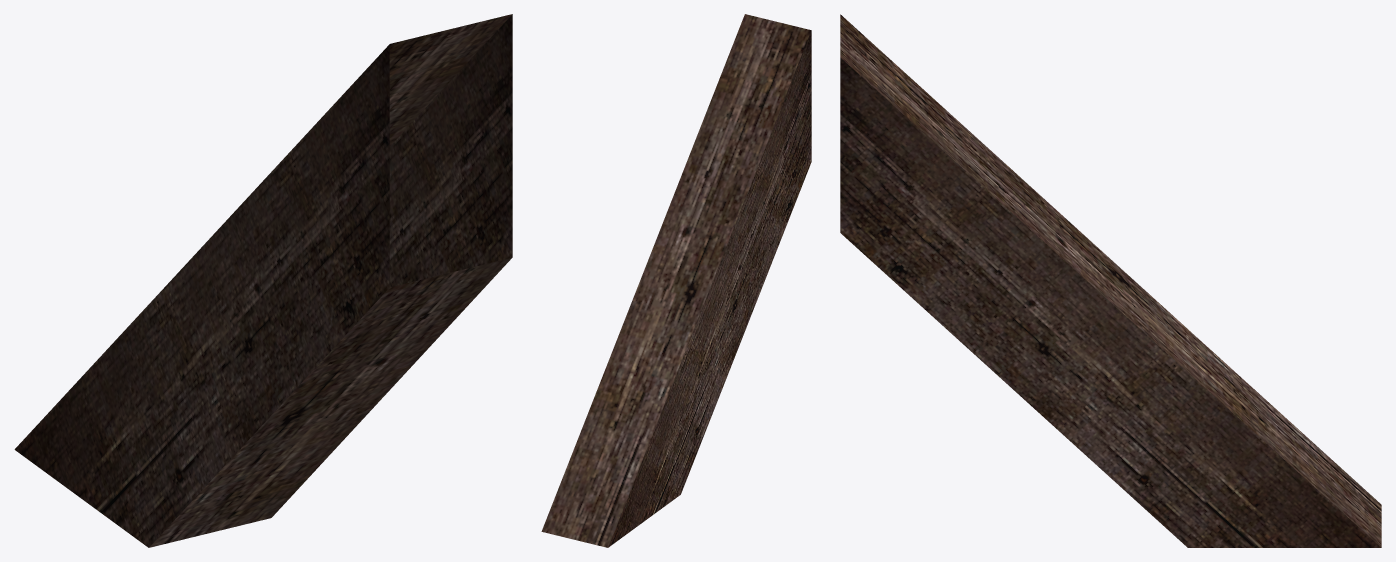
The model's file is 45_degree_brace.fbx.
3 renders of one model, left to right at view 1: azimuth 30°, elevation 25°; view 2: azimuth 150°, elevation 25°; view 3: azimuth 270°, elevation 25°, orthographic. The views are drawn at different scales.
Parts seen in each view (by area): view 1: mesh_0; view 2: mesh_0; view 3: mesh_0.
Part boxes in pixels (x1,y1,x2,y2): mesh_0: [14, 14, 512, 547]; mesh_0: [541, 14, 811, 547]; mesh_0: [840, 14, 1381, 547].
Size of the model in its own units: 22.99 by 122 by 122.
Materials: 1 (1 with a texture image).
